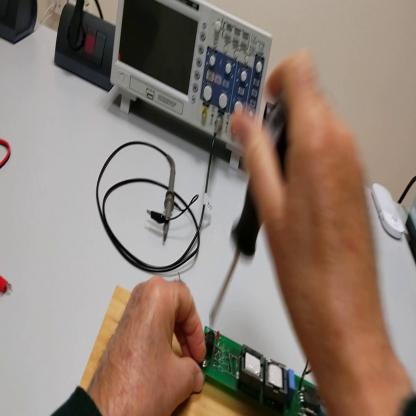hand: (228, 51, 385, 373), (87, 278, 208, 412)
high voltage board: (202, 325, 322, 416)
oscilloscope: (116, 3, 274, 169)
screwdriver-: (209, 101, 282, 353)
socket: (55, 8, 116, 94), (2, 1, 40, 47)
welder station: (407, 196, 416, 260)
working area: (81, 286, 275, 416)
